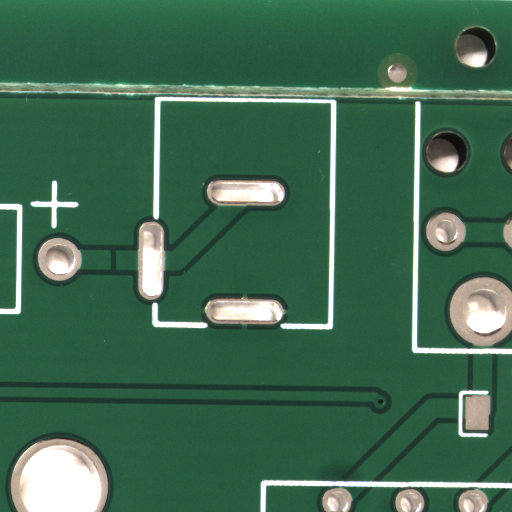Open_circuit: (113, 260, 120, 281)
